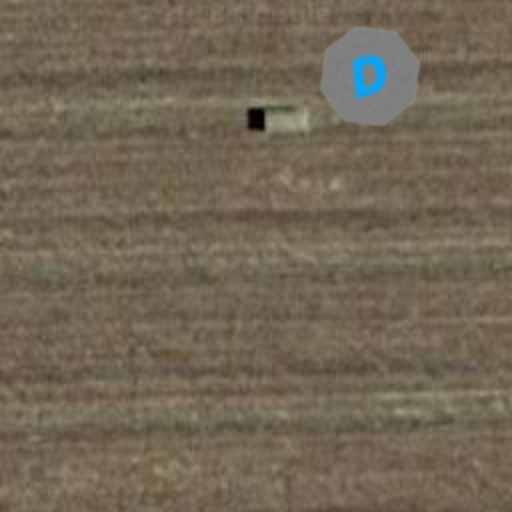octagon: (306, 12, 434, 140)
